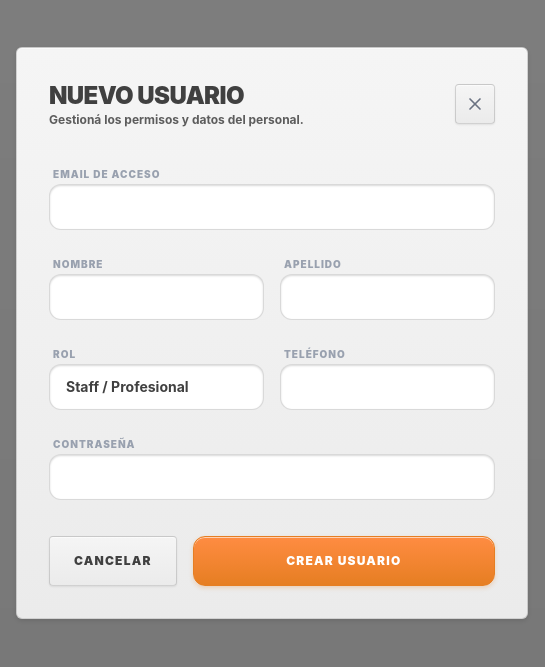
UserFormModal: errores de validacion › una contrasena corta no se envia y dice la politica
The image size is (545, 667).
In the field below "Email de Acceso": {"x": 272, "y": 207} [49,184,495,230], type "nuevo@example.com"
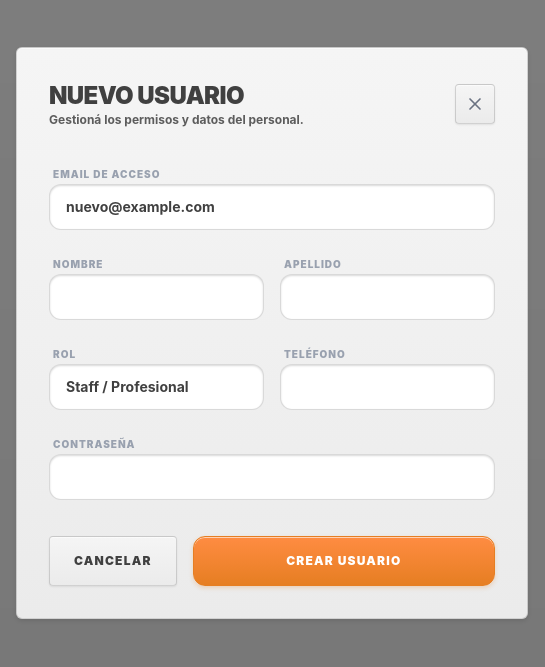
In the password field: {"x": 272, "y": 477} [49,454,495,500], type "cort1"
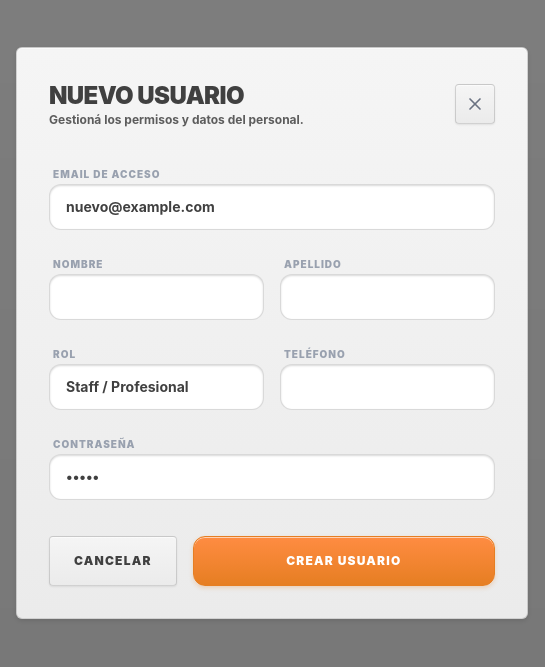
Submit the form, box [49,160,495,586]
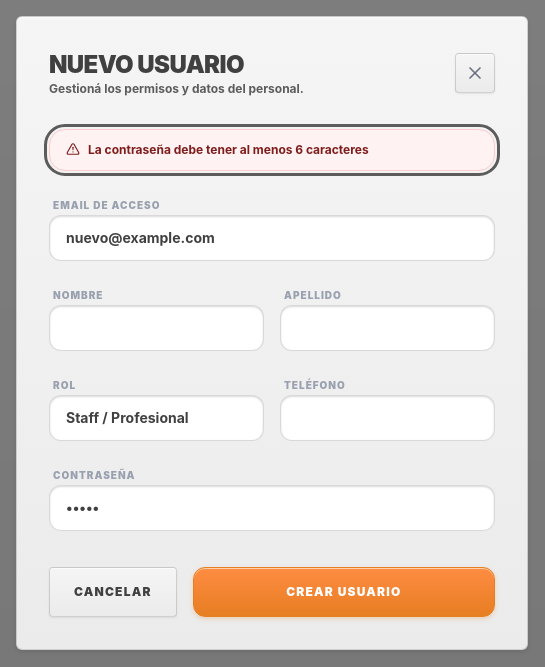
Expected: the message shows "al menos 6 caracteres", [88,142,369,157]
